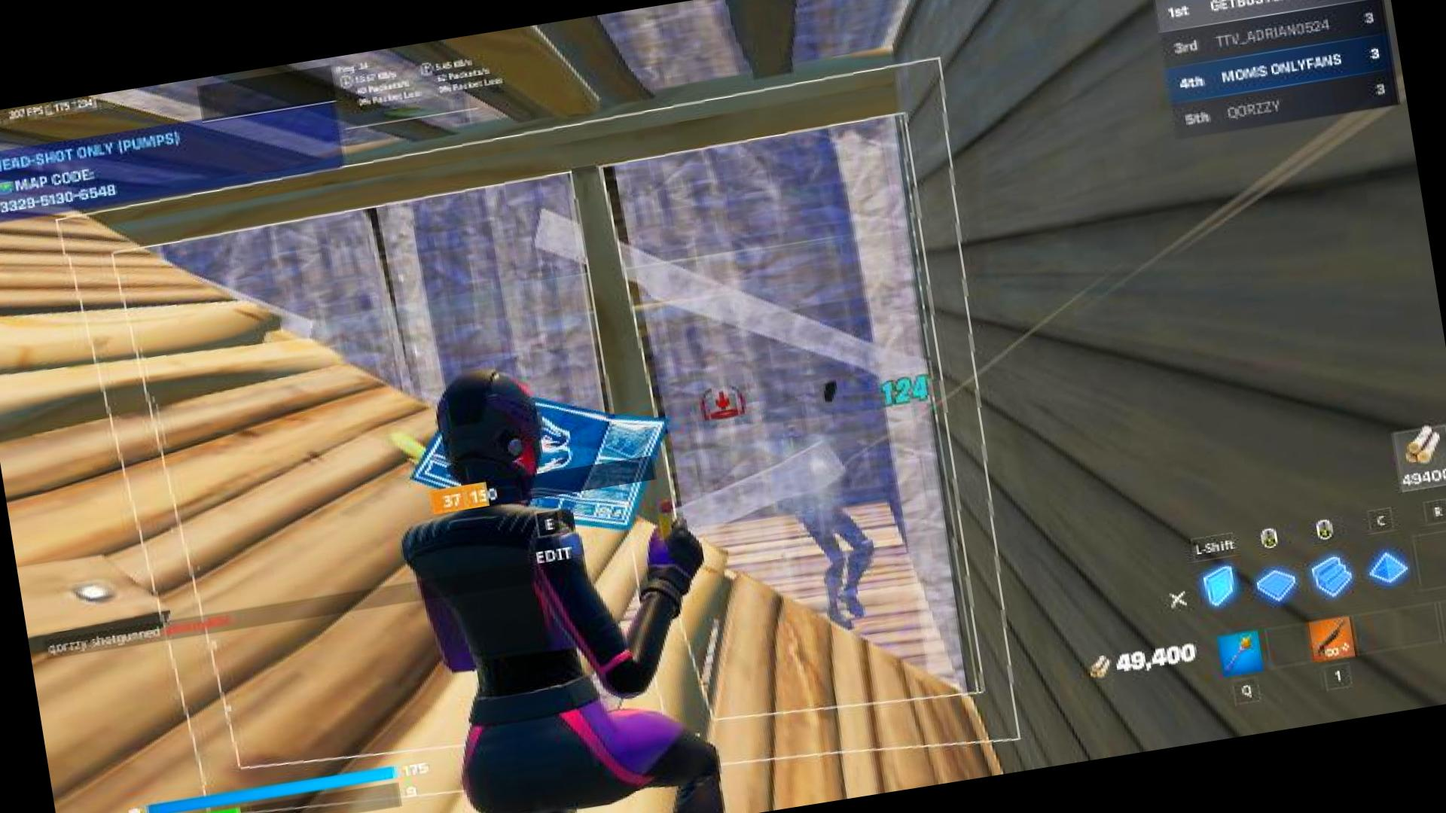player: (753, 374, 891, 629)
